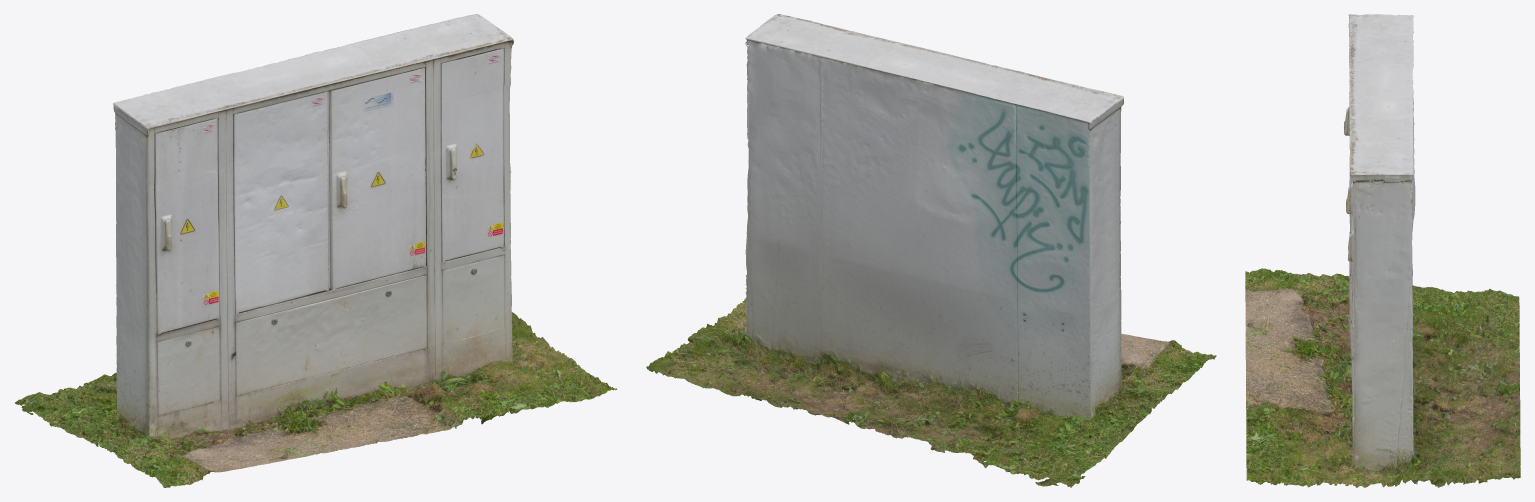
File: sf-electric-telecom-box-25a8fe.glb
3 views of the same model, side by side, from view 1: azimuth 30°, elevation 25°; view 2: azimuth 150°, elevation 25°; view 3: azimuth 270°, elevation 25° (orthographic). The views are drawn at different scales.
Parts seen in each view (by area): view 1: Model_material2_0, Model_material1_0, Model_material3_0, Model_material0_0; view 2: Model_material0_0, Model_material1_0, Model_material3_0, Model_material2_0; view 3: Model_material1_0, Model_material0_0, Model_material2_0, Model_material3_0.
Boxes of the visible parts, x1,y1,x2,y2 form: Model_material2_0: (22, 29, 617, 485); Model_material1_0: (22, 14, 555, 467); Model_material3_0: (15, 17, 563, 487); Model_material0_0: (30, 37, 585, 472); Model_material0_0: (670, 14, 1192, 470); Model_material1_0: (646, 15, 1163, 486); Model_material3_0: (693, 14, 1216, 487); Model_material2_0: (669, 20, 1203, 485); Model_material1_0: (1245, 14, 1520, 484); Model_material0_0: (1245, 14, 1520, 487); Model_material2_0: (1245, 96, 1519, 487); Model_material3_0: (1245, 24, 1519, 487).
Bounding box in the file's own units: 2.35 × 1.7 × 1.38.
4 materials, 4 textured.
